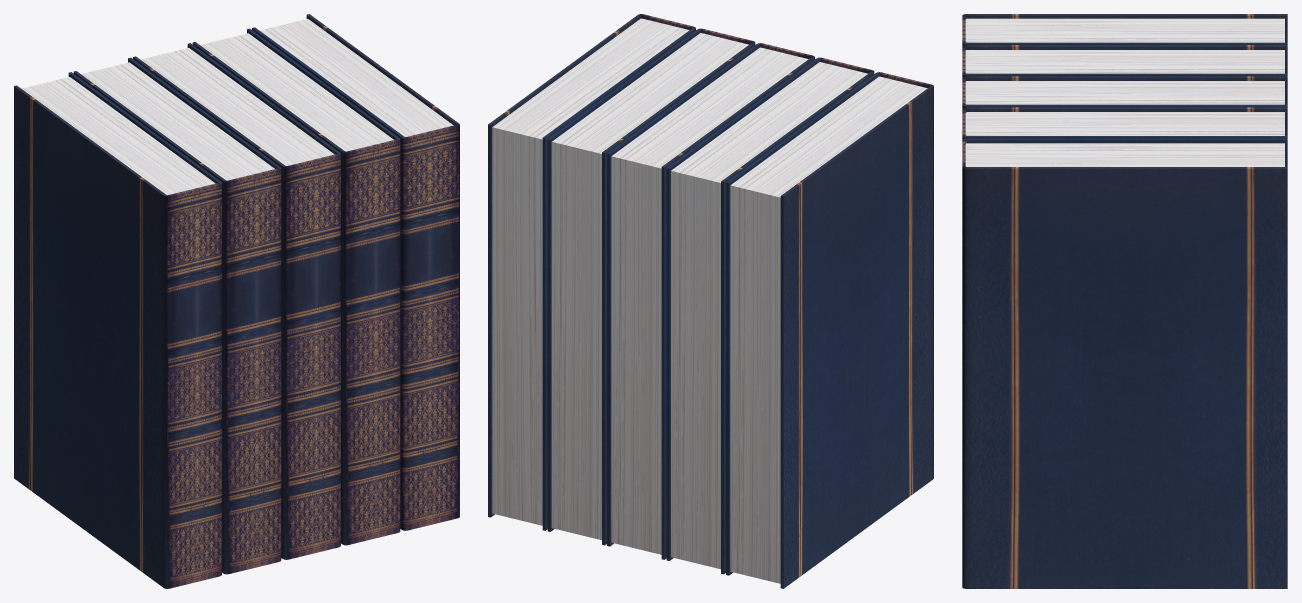
File: RetroBooks01_1_5x.FBX
The picture shows the model from 3 angles, left to right: view 1: azimuth 30°, elevation 25°; view 2: azimuth 150°, elevation 25°; view 3: azimuth 270°, elevation 25°; orthographic projection. The views are drawn at different scales.
Parts seen in each view (by area): view 1: RetroBooks01_1_5x; view 2: RetroBooks01_1_5x; view 3: RetroBooks01_1_5x.
Boxes of the visible parts, x1,y1,x2,y2 form: RetroBooks01_1_5x: [14, 14, 459, 588]; RetroBooks01_1_5x: [488, 14, 933, 588]; RetroBooks01_1_5x: [962, 14, 1287, 588].
Bounding box in the file's own units: 1.78 × 2.26 × 1.59.
